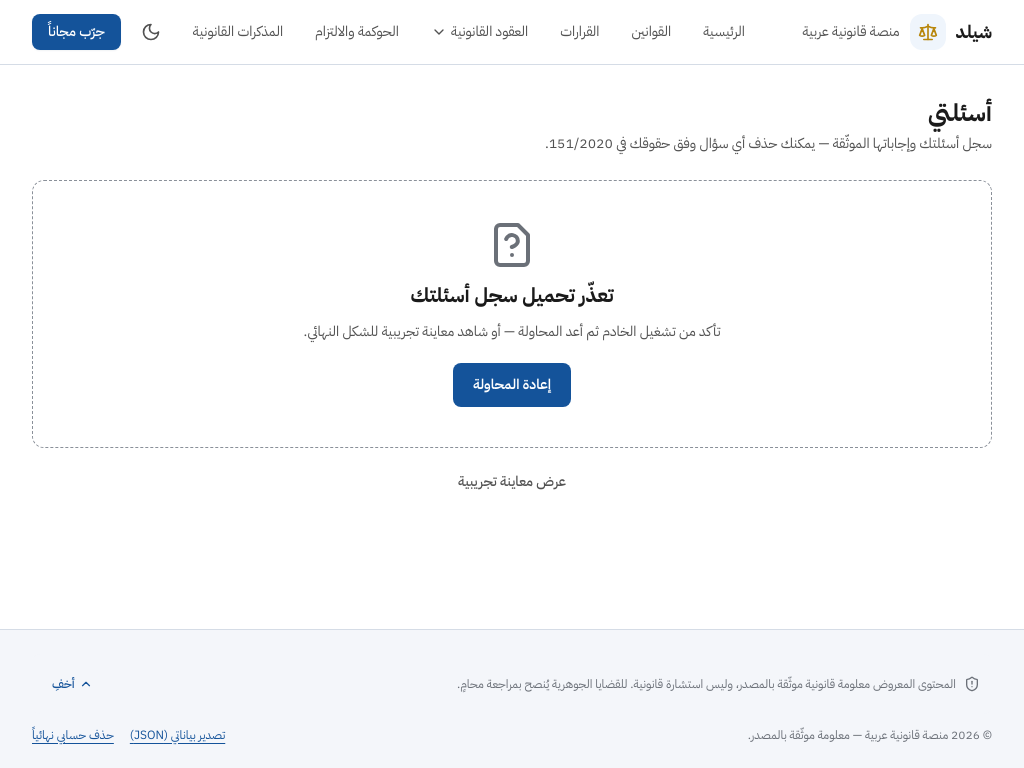
Test: MyQuestionsPage › في المعاينة التجريبية يحذف محلياً دون استدعاء backend
Click the button "عرض معاينة تجريبية" at (512, 482), box [442,464,582,500]
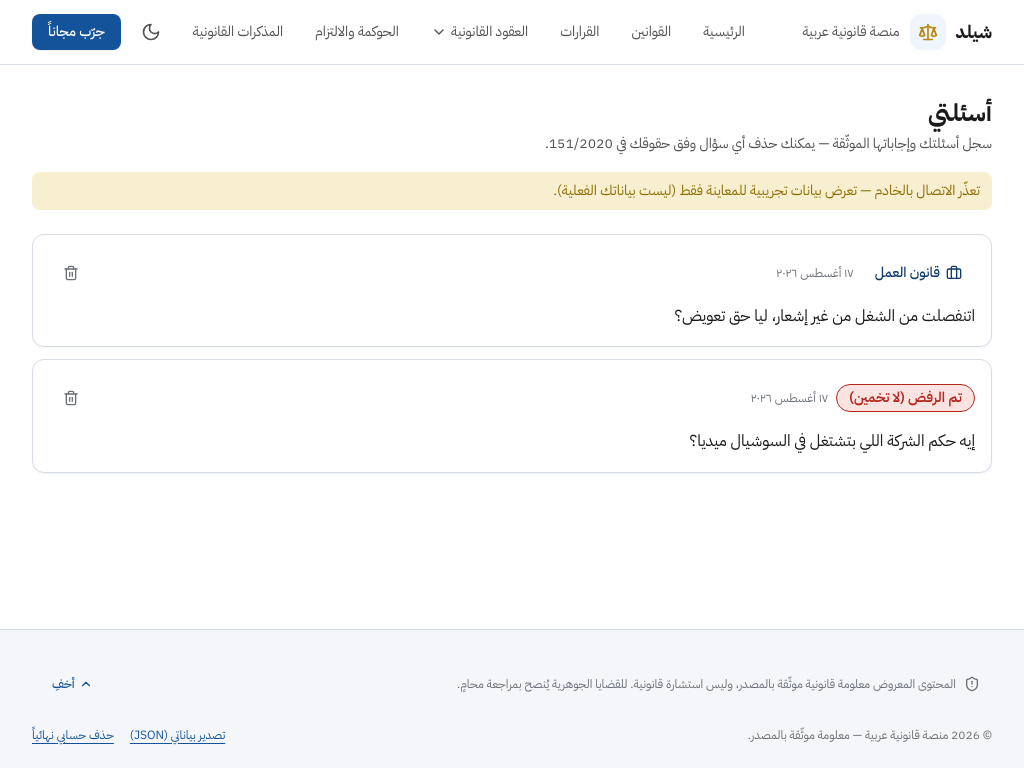
Expected: the text "اتنفصلت من الشغل من غير إشعار، ليا حق تعويض؟" is shown, [674,304,975,328]
Click the button named "حذف السؤال: " at (71, 273), box [49,251,93,295]
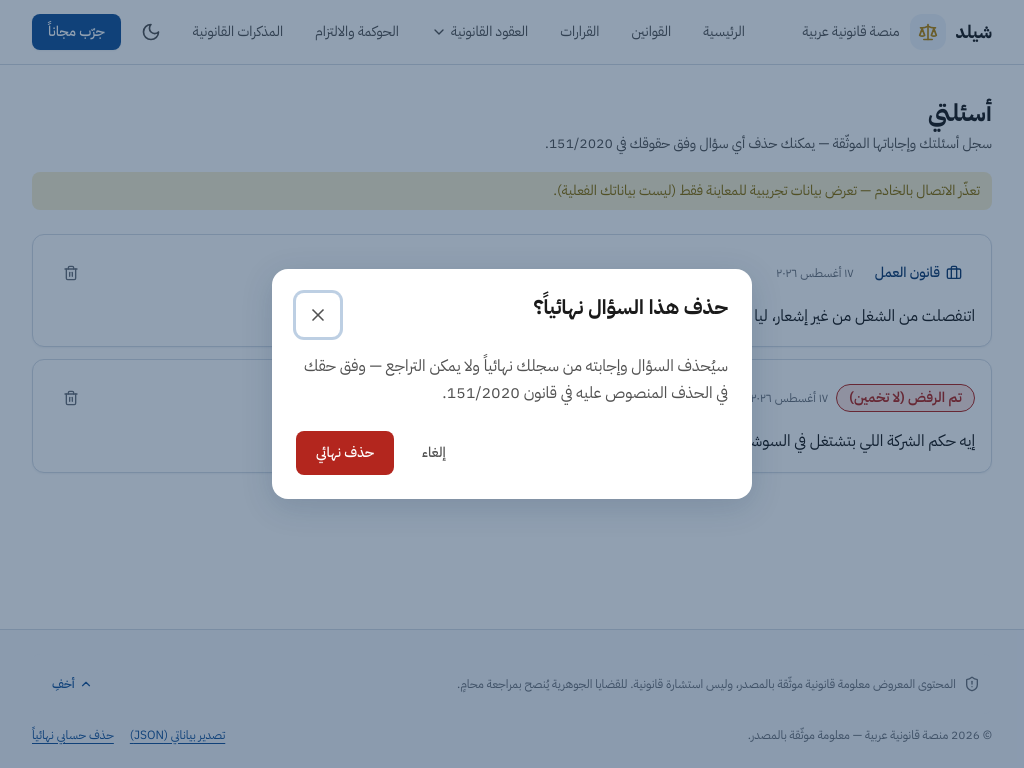
Click the button "حذف نهائي" at (345, 453), box [296,431,394,475]
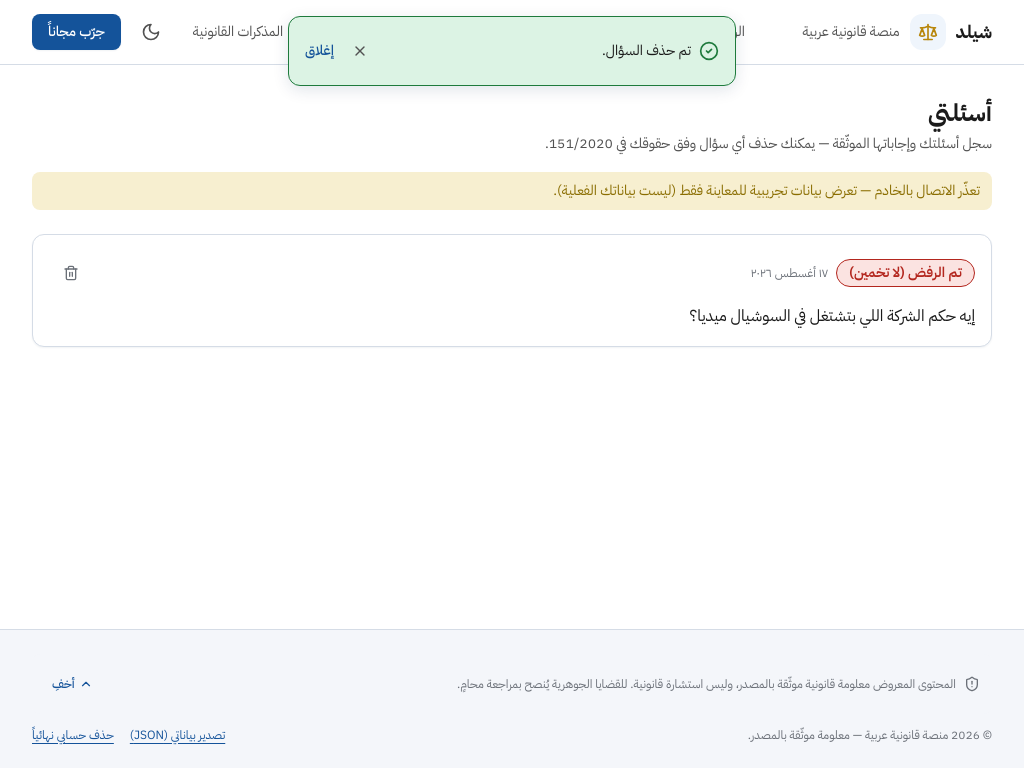
Expected: the text "اتنفصلت من الشغل من غير إشعار، ليا حق تعويض؟" is gone
